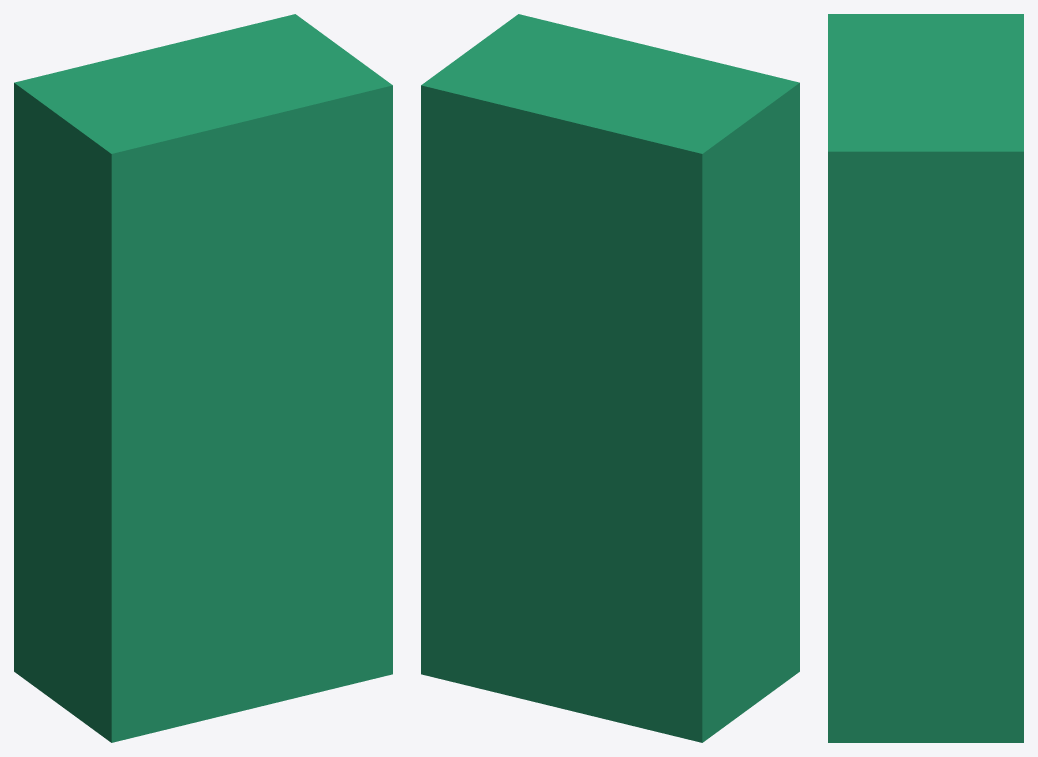
Rendered from origin-offset.glb.
The picture shows the model from 3 angles, left to right: view 1: azimuth 30°, elevation 25°; view 2: azimuth 150°, elevation 25°; view 3: azimuth 270°, elevation 25°; orthographic projection.
Bounding box in the file's own units: 1 × 2 × 0.6.
